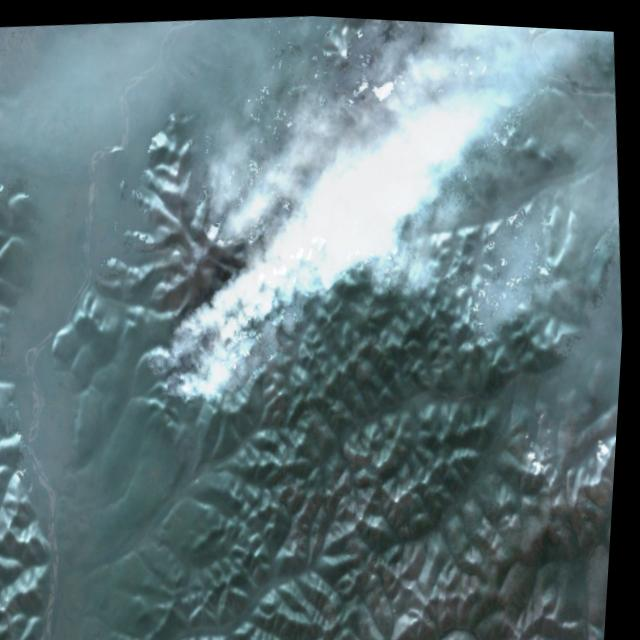fire: (133, 289, 259, 423)
